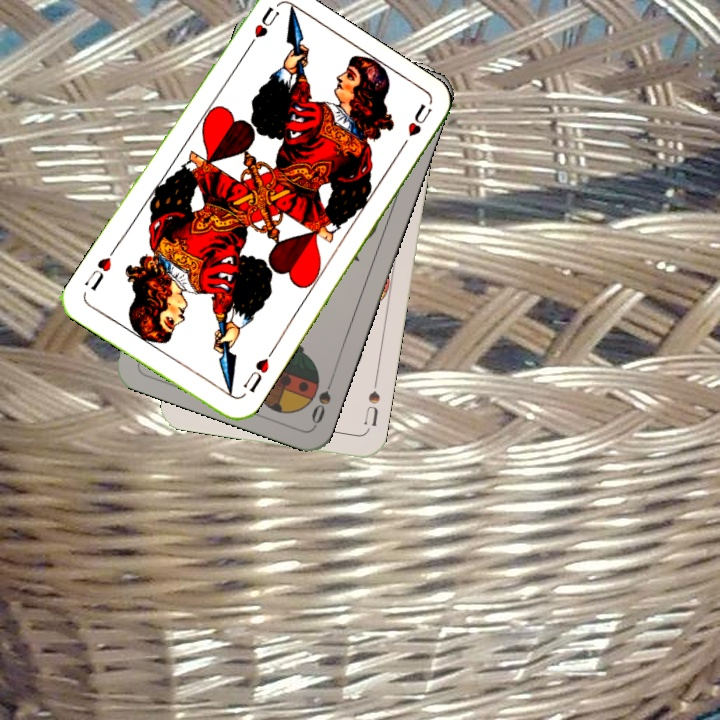HU: (241, 2, 282, 55), (239, 347, 276, 395)
SO: (307, 370, 338, 428)
SU: (360, 375, 383, 429)
